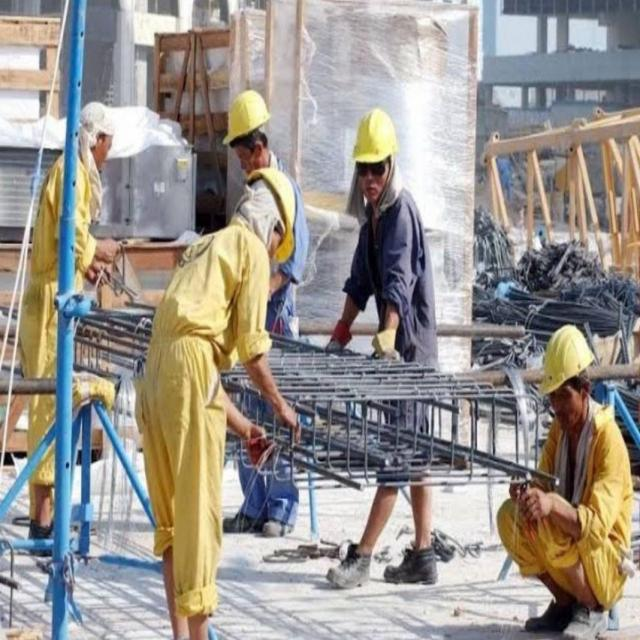Reflective-Jacket: (242, 160, 305, 269)
Safety-Helmet: (538, 321, 595, 396), (218, 82, 275, 152), (348, 103, 400, 167)
